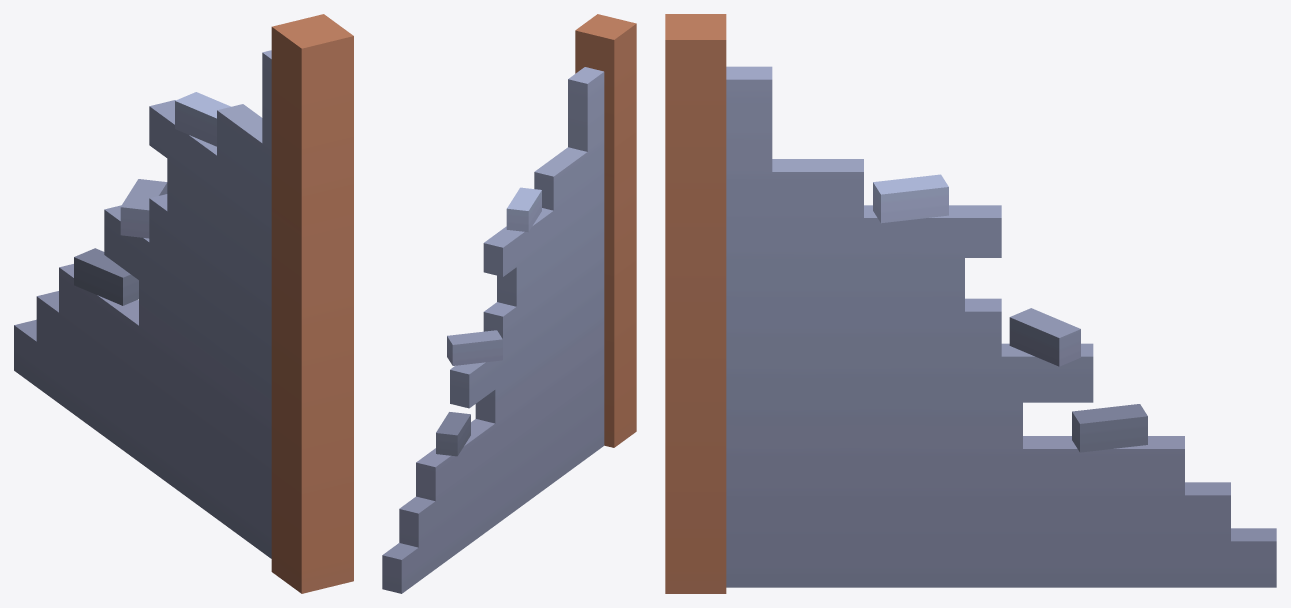
The model's file is wall-broken.glb.
The picture shows the model from 3 angles, left to right: view 1: azimuth 30°, elevation 25°; view 2: azimuth 150°, elevation 25°; view 3: azimuth 270°, elevation 25°; orthographic projection. The views are drawn at different scales.
Visible parts, largest first — view 1: wall-broken; view 2: wall-broken; view 3: wall-broken.
Part boxes in pixels (<box>): wall-broken: <box>14,14,353,593</box>; wall-broken: <box>382,14,636,593</box>; wall-broken: <box>665,14,1276,593</box>.
Bounding box in the file's own units: 0.1167 × 1 × 1.
1 material, 1 textured.
